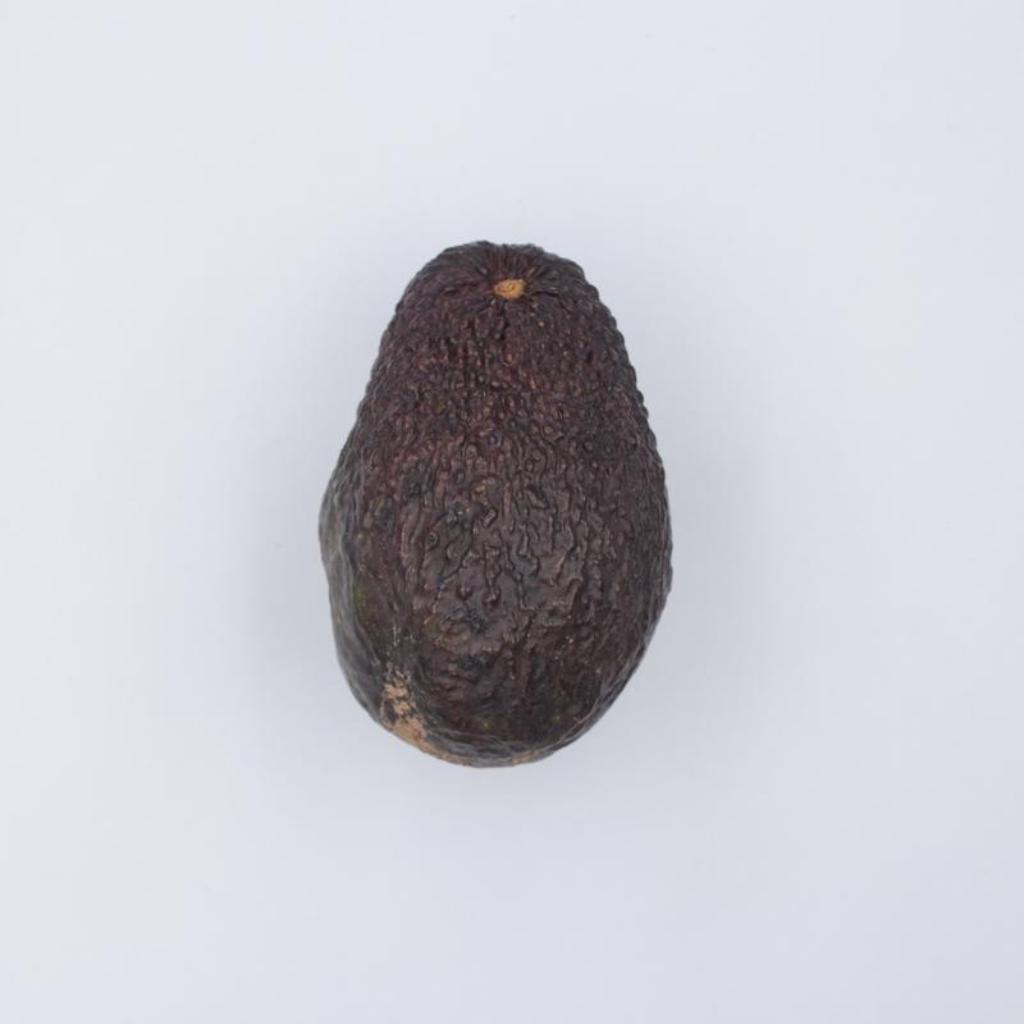rona: (319, 242, 671, 765)
